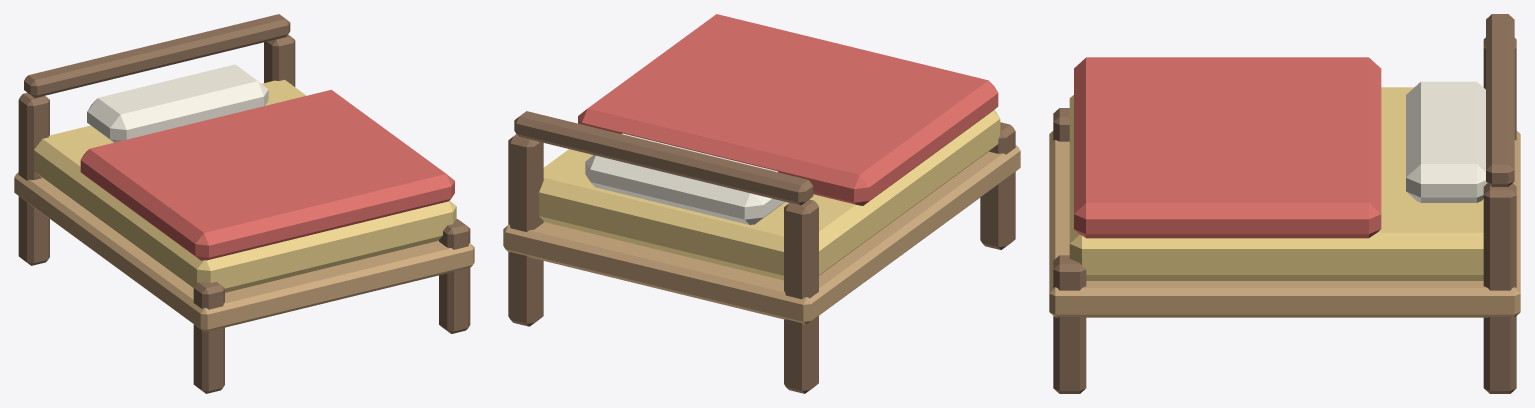
Rendered from bed.glb.
3 renders of one model, left to right at view 1: azimuth 30°, elevation 25°; view 2: azimuth 150°, elevation 25°; view 3: azimuth 270°, elevation 25°, orthographic. The views are drawn at different scales.
Visible parts, largest first — view 1: bed; view 2: bed; view 3: bed.
Boxes of the visible parts, x1,y1,x2,y2 form: bed: (14, 14, 474, 393); bed: (503, 14, 1020, 393); bed: (1049, 14, 1520, 393).
Bounding box in the file's own units: 1.9 × 1.22 × 2.3.
